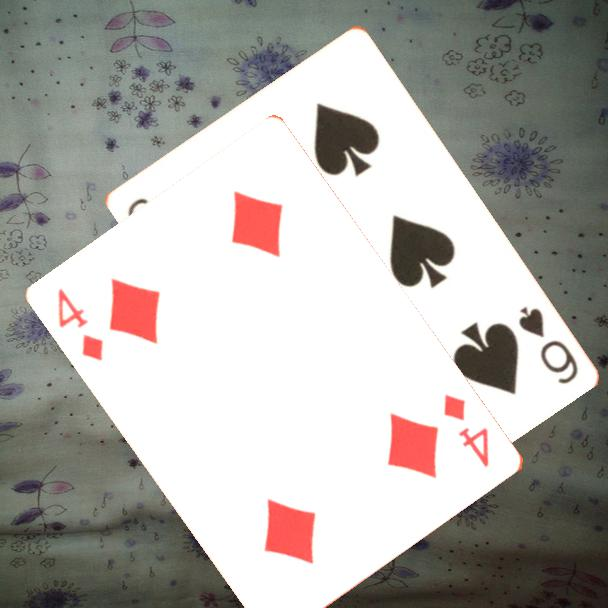d04: (440, 390, 493, 471), (54, 284, 107, 364)
s06: (514, 302, 581, 387)
